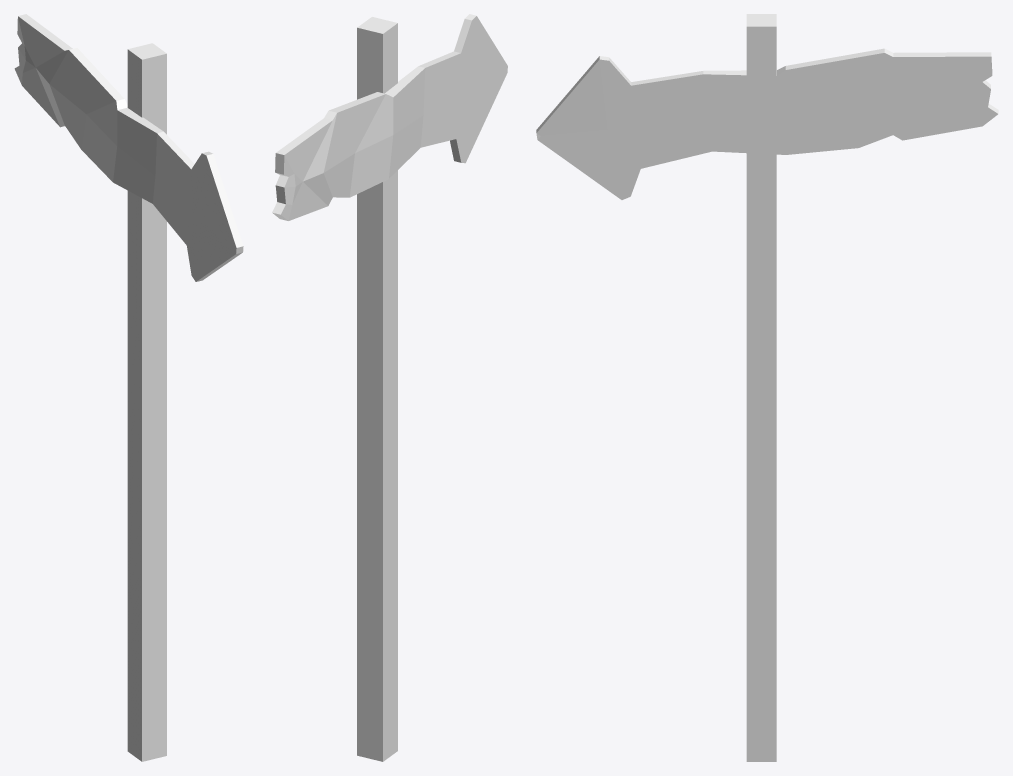
Rendered from señal4.fbx.
3 views of the same model, side by side, from view 1: azimuth 30°, elevation 25°; view 2: azimuth 150°, elevation 25°; view 3: azimuth 270°, elevation 25° (orthographic). The views are drawn at different scales.
Parts seen in each view (by area): view 1: señal6; view 2: señal6; view 3: señal6.
Part boxes in pixels (<box>): señal6: <box>14,14,243,761</box>; señal6: <box>272,14,507,761</box>; señal6: <box>536,14,998,761</box>.
Bounding box in the file's own units: 36.49 × 690 × 393.
